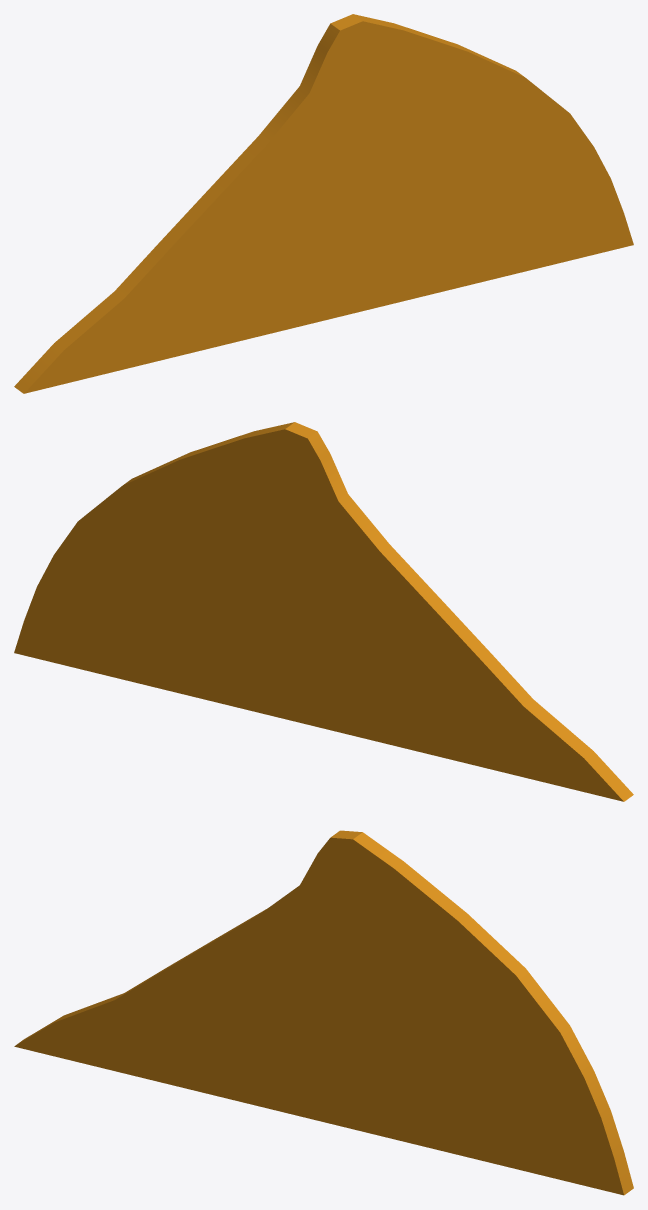
The model's file is Model_SandDune.fbx.
3 renders of one model, top to bottom at view 1: azimuth 30°, elevation 25°; view 2: azimuth 150°, elevation 25°; view 3: azimuth 330°, elevation 25°, orthographic.
Visible parts, largest first — view 1: pCube1; view 2: pCube1; view 3: pCube1.
Boxes of the visible parts, left/top/right/bottom form: pCube1: left=14, top=14, right=633, bottom=393; pCube1: left=14, top=422, right=633, bottom=801; pCube1: left=14, top=830, right=633, bottom=1195.
Size of the model in its own units: 20.39 by 9.26 by 0.5672.
